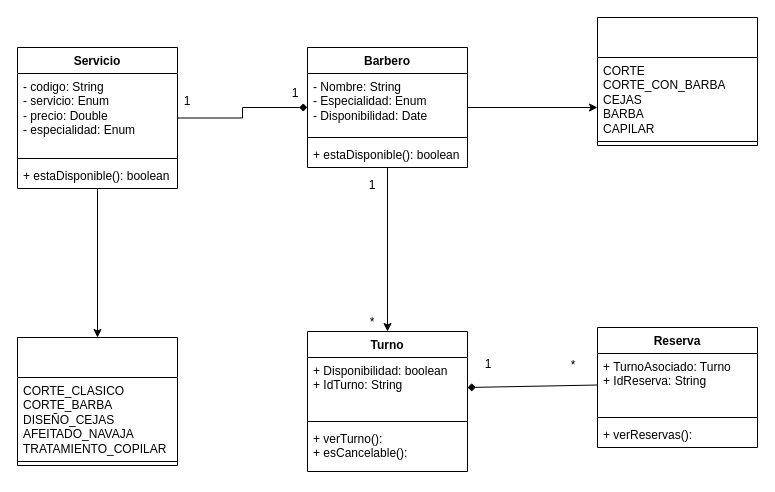
This 775x492 diagram has some shape labels left out. The shapes that lost their labels are listed below. From the top down, each one's box as (x1, y1, x2, y2) in pixels, then its label:
(596, 16, 758, 146): <<Enumeration>> Especialidad
(16, 336, 178, 466): <<Enumeration>> Servicio
